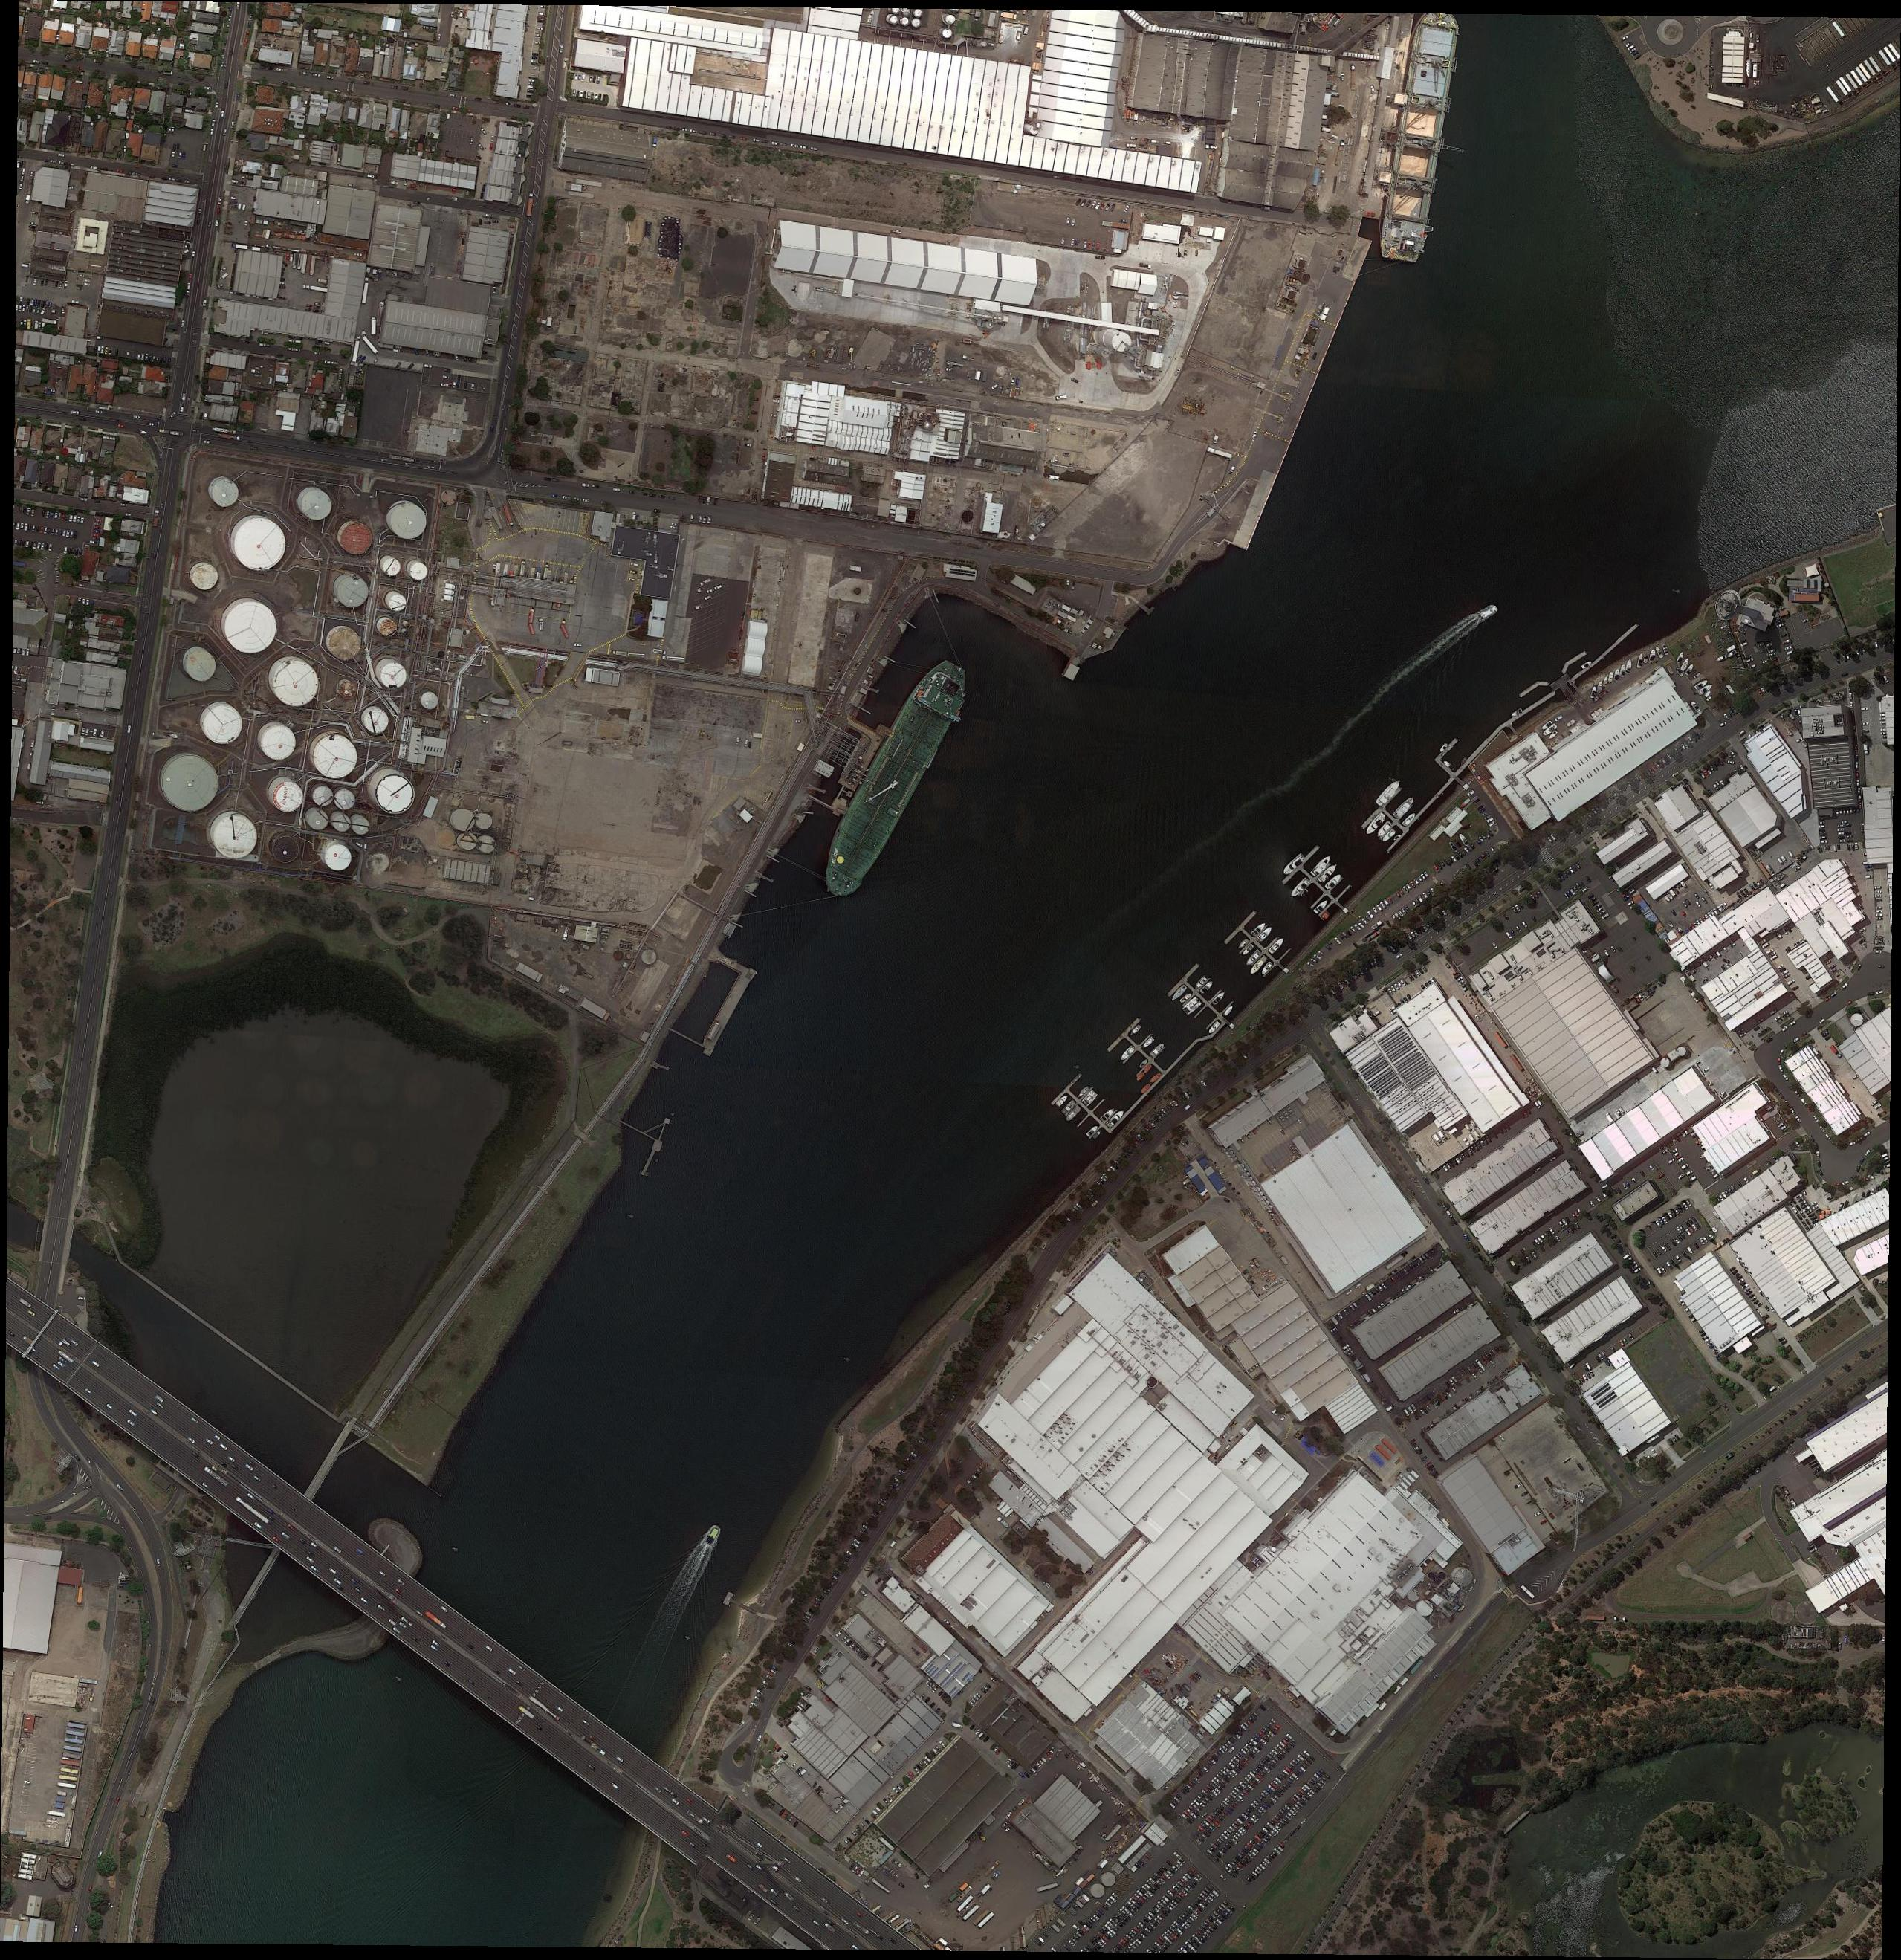harbor: (1281, 849, 1360, 926), (1168, 962, 1245, 1039), (1052, 1074, 1124, 1146), (1108, 1020, 1180, 1090), (1227, 910, 1292, 978), (700, 973, 753, 1057), (1593, 623, 1638, 665), (1360, 809, 1383, 831), (1437, 737, 1458, 761), (1381, 787, 1402, 809), (1386, 831, 1406, 854), (1518, 681, 1540, 700), (641, 1150, 656, 1176), (1567, 651, 1588, 665)
ship: (807, 654, 977, 903), (1376, 14, 1465, 264), (1374, 777, 1402, 807), (1364, 812, 1388, 838), (1392, 796, 1416, 821), (1283, 854, 1306, 878), (1309, 854, 1332, 878), (702, 1524, 723, 1547), (1290, 877, 1311, 899), (1318, 863, 1339, 884), (1248, 954, 1267, 977), (1106, 1109, 1126, 1129), (1479, 604, 1500, 621), (1171, 983, 1189, 1003), (1245, 949, 1262, 968), (1267, 936, 1285, 955), (1182, 998, 1201, 1015), (1325, 873, 1343, 891), (1376, 821, 1393, 838), (1257, 926, 1273, 943), (1120, 1045, 1136, 1062), (1066, 1106, 1082, 1123), (1063, 1099, 1078, 1116), (1211, 992, 1227, 1008), (1099, 1108, 1115, 1123), (1689, 700, 1705, 716), (1252, 921, 1266, 938), (1402, 810, 1416, 828), (1698, 682, 1714, 696), (1315, 899, 1329, 915), (1381, 829, 1397, 843), (1054, 1094, 1070, 1108), (1150, 1043, 1166, 1057), (1442, 758, 1456, 772), (1260, 962, 1274, 977), (1199, 980, 1213, 994), (1141, 1036, 1155, 1050), (1679, 656, 1691, 670), (1694, 679, 1708, 691), (1509, 705, 1523, 717), (1243, 943, 1255, 957), (1222, 1005, 1236, 1017), (1208, 1022, 1220, 1036), (1129, 1024, 1143, 1036), (1178, 992, 1192, 1005), (1238, 938, 1250, 952), (1540, 725, 1556, 735), (1196, 977, 1208, 989), (1085, 1125, 1098, 1137), (1675, 651, 1686, 665), (1448, 840, 1458, 854), (1458, 833, 1469, 845), (1684, 663, 1694, 675), (1138, 1059, 1150, 1069), (1624, 660, 1633, 674), (1637, 654, 1645, 668), (1654, 646, 1663, 660), (1647, 651, 1658, 661), (1581, 660, 1591, 670), (1714, 654, 1729, 661), (1675, 667, 1686, 677), (1567, 717, 1577, 728), (1612, 668, 1621, 681), (1661, 644, 1670, 656), (1553, 714, 1565, 723), (1094, 1129, 1103, 1141), (1596, 682, 1603, 696), (1549, 730, 1558, 740), (1542, 721, 1554, 728), (1591, 686, 1596, 698), (1609, 672, 1614, 684), (1621, 665, 1626, 677), (1603, 677, 1609, 686)
